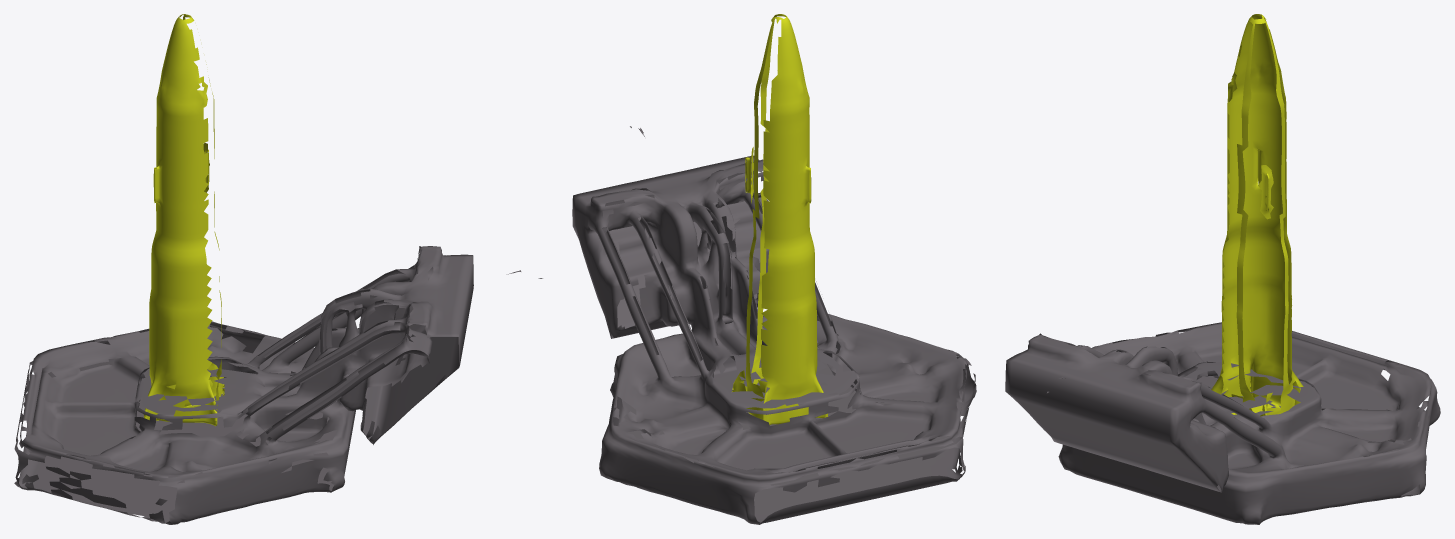
The model's file is Missile Silo.glb.
The picture shows the model from 3 angles, left to right: view 1: azimuth 30°, elevation 25°; view 2: azimuth 150°, elevation 25°; view 3: azimuth 270°, elevation 25°; orthographic projection.
Parts seen in each view (by area): view 1: Cover, Missile; view 2: Cover, Missile; view 3: Cover, Missile.
Part boxes in pixels (x1,y1,x2,y2): Cover: [14, 246, 542, 524]; Missile: [143, 14, 224, 426]; Cover: [572, 126, 976, 524]; Missile: [732, 14, 828, 424]; Cover: [1005, 322, 1440, 524]; Missile: [1211, 14, 1303, 416].
Size of the model in its own units: 7.17 by 6.84 by 6.19.
